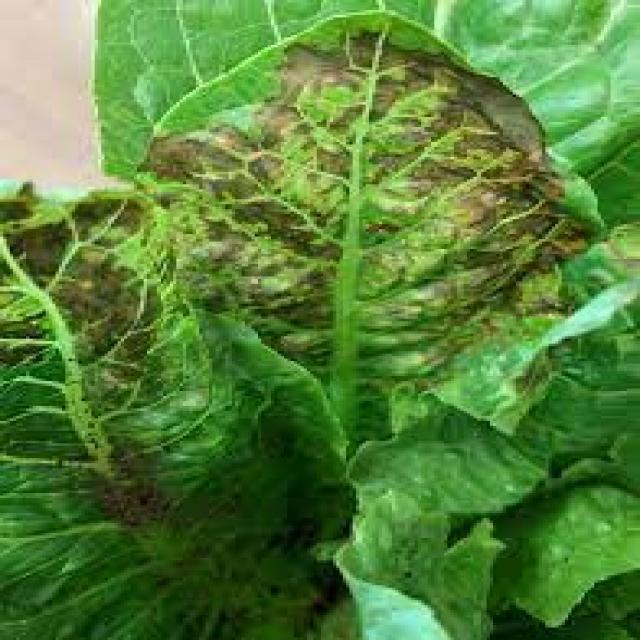Viral: (6, 195, 185, 541), (273, 76, 541, 277)
